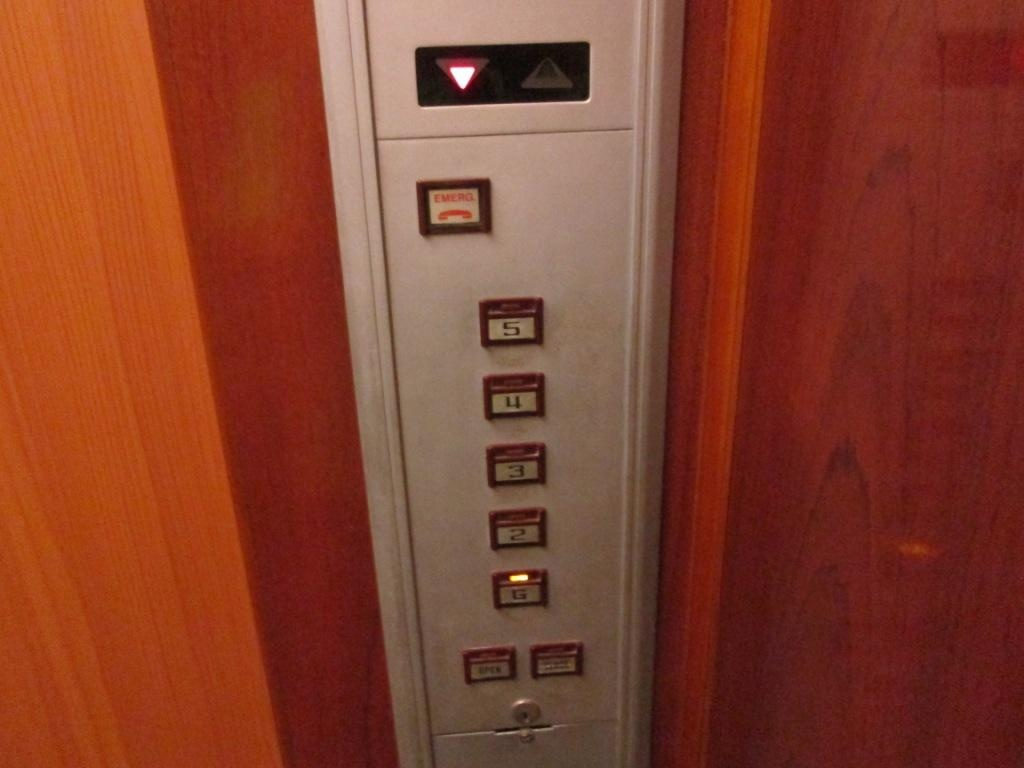2: (489, 508, 545, 549)
3: (486, 443, 546, 489)
4: (483, 374, 545, 421)
5: (478, 298, 543, 348)
G: (493, 569, 548, 609)
blur: (529, 640, 584, 679), (463, 646, 517, 684)
call: (416, 178, 492, 238)
keyhole: (506, 700, 541, 727)
led: (413, 39, 593, 107)
